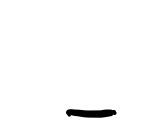minus: (66, 108, 117, 118)
